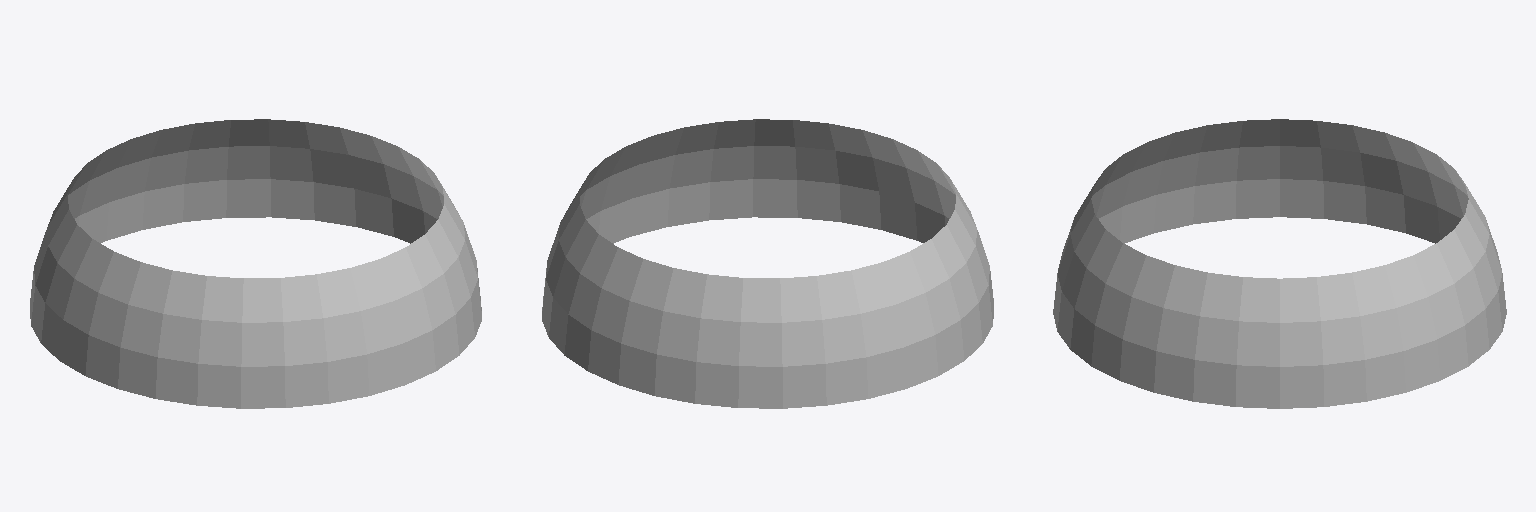
The model's file is HalfSphereCut.obj.
The picture shows the model from 3 angles: view 1: azimuth 30°, elevation 25°; view 2: azimuth 150°, elevation 25°; view 3: azimuth 270°, elevation 25°; orthographic projection.
Visible parts, largest first — view 1: Sphere_Sphere.002; view 2: Sphere_Sphere.002; view 3: Sphere_Sphere.002.
Part boxes in pixels (x1,y1,x2,y2): Sphere_Sphere.002: (30, 119, 481, 408); Sphere_Sphere.002: (542, 119, 993, 408); Sphere_Sphere.002: (1053, 119, 1506, 408).
Bounding box in the file's own units: 2 × 0.5556 × 2.